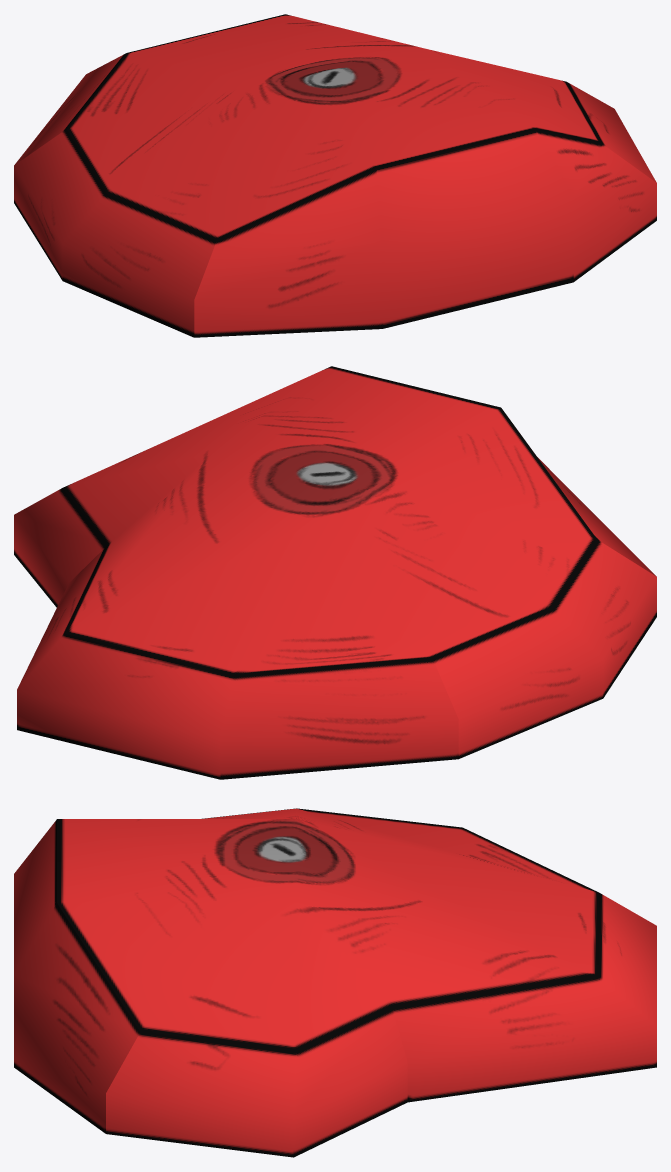
The model's file is Encoche Rouge.fbx.
The picture shows the model from 3 angles, top to bottom: view 1: azimuth 30°, elevation 25°; view 2: azimuth 150°, elevation 25°; view 3: azimuth 270°, elevation 25°; orthographic projection. The views are drawn at different scales.
Parts seen in each view (by area): view 1: Encoche rouge; view 2: Encoche rouge; view 3: Encoche rouge.
Boxes of the visible parts, <box> form: Encoche rouge: <box>14,14,656,337</box>; Encoche rouge: <box>14,366,656,779</box>; Encoche rouge: <box>14,808,656,1157</box>.
Bounding box in the file's own units: 1.74 × 0.4293 × 1.62.
